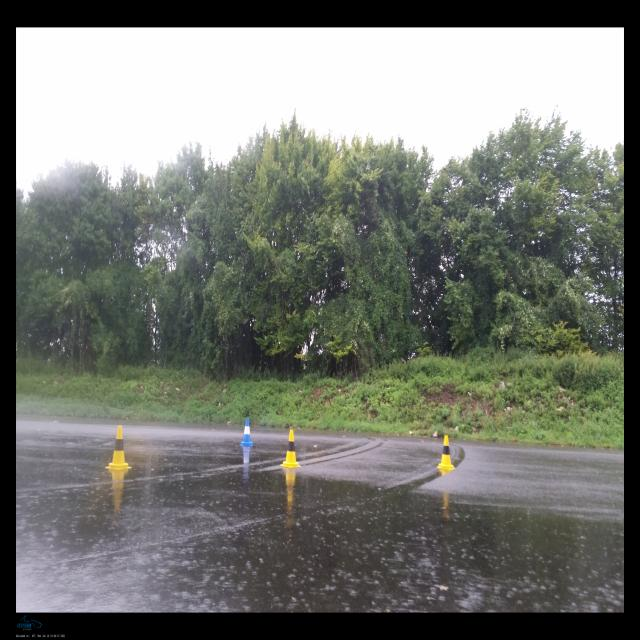blue_cone: (240, 418, 252, 446)
yellow_cone: (105, 426, 132, 470), (280, 430, 301, 468), (437, 435, 455, 470)
